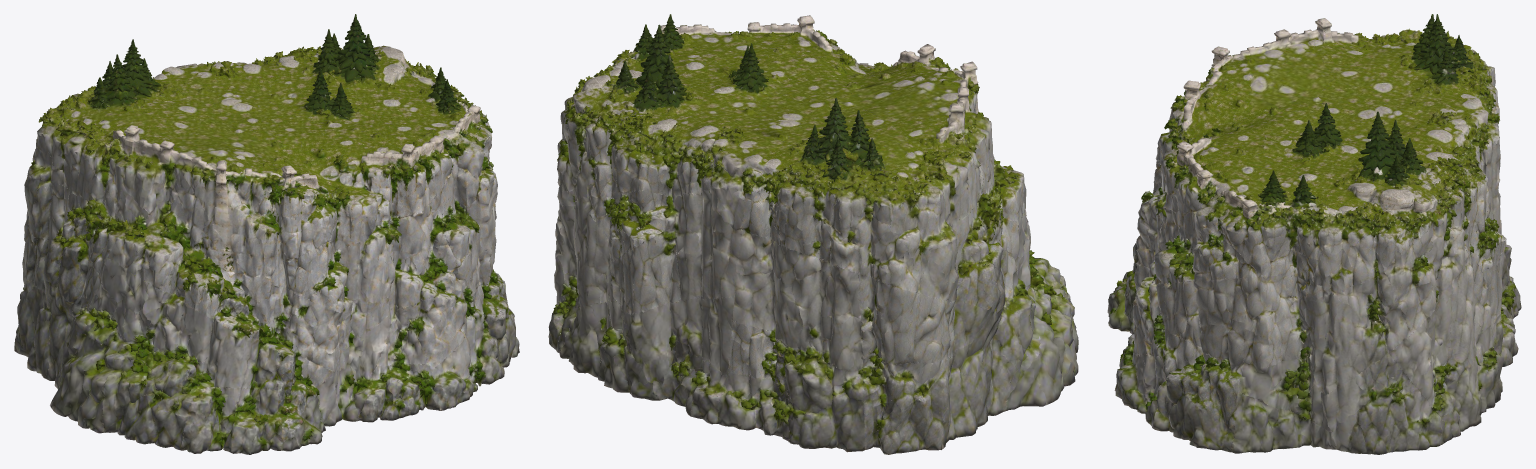
Rendered from white_canyon_cliff.glb.
The picture shows the model from 3 angles, left to right: view 1: azimuth 30°, elevation 25°; view 2: azimuth 150°, elevation 25°; view 3: azimuth 270°, elevation 25°; orthographic projection. The views are drawn at different scales.
Visible parts, largest first — view 1: Mesh_0; view 2: Mesh_0; view 3: Mesh_0.
Part boxes in pixels (<box>): Mesh_0: <box>14,14,519,454</box>; Mesh_0: <box>548,14,1078,454</box>; Mesh_0: <box>1107,14,1521,454</box>.
Size of the model in its own units: 1.89 by 1.25 by 1.57.
Materials: 1 (1 with a texture image).
